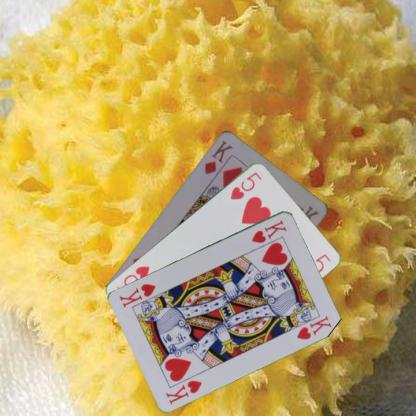5h: (228, 169, 263, 201)
Kd: (202, 137, 234, 176)
Kh: (163, 376, 203, 406), (249, 218, 288, 245)
